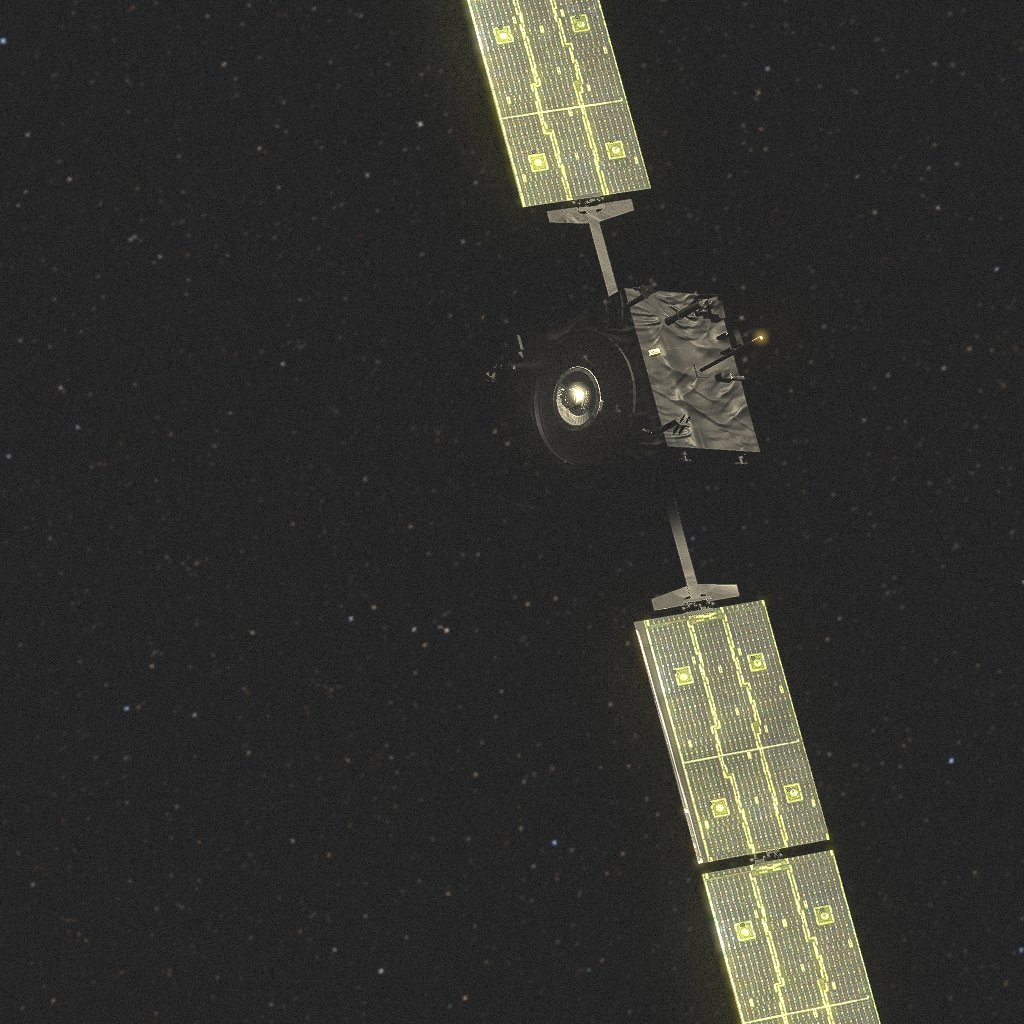smart_1: (463, 13, 865, 1008)
